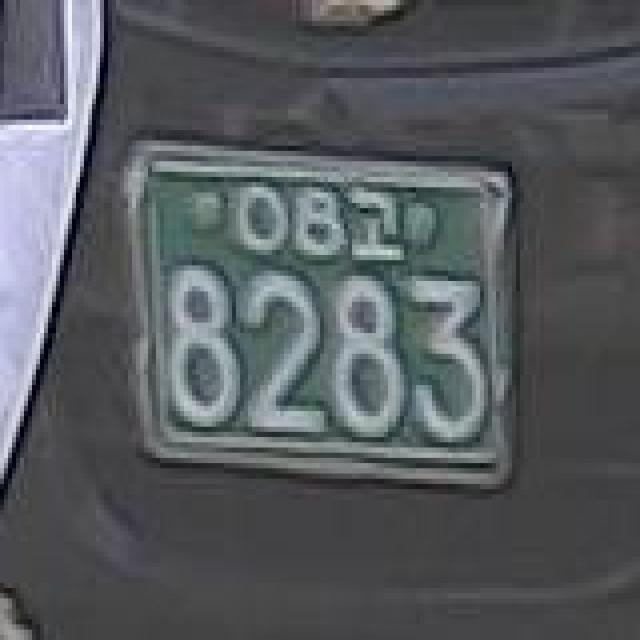illegal_plate: (120, 125, 534, 495)
